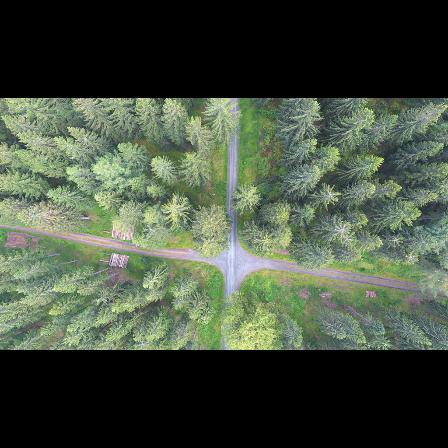Sick: (330, 220, 355, 239), (322, 184, 342, 206), (403, 250, 421, 267), (387, 232, 405, 248)
